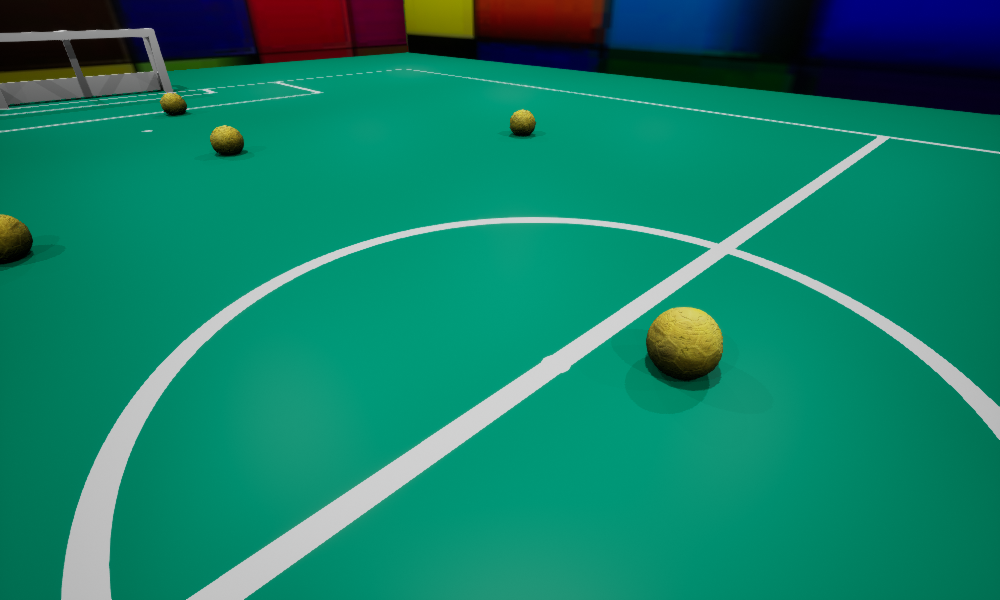b: (646, 307, 722, 379), (0, 214, 32, 261), (210, 125, 243, 155), (510, 109, 535, 135), (160, 93, 186, 113)
g: (0, 28, 172, 108)
